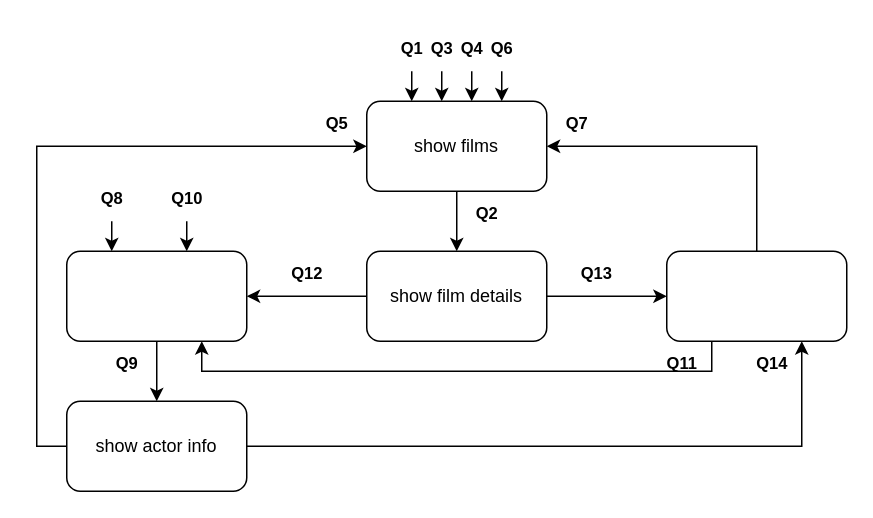
The diagram is 873 pixels wide and 518 high, and some of its shapes have lost their labels. Each missing label, with the centre of its shape:
"show actors" belongs at [156,295].
"show characters" belongs at [756,295].
